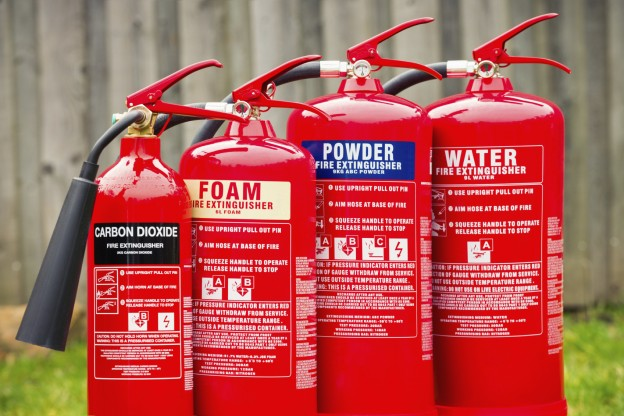fire: (14, 59, 193, 416), (285, 17, 437, 416), (421, 14, 567, 416), (178, 55, 317, 415)
